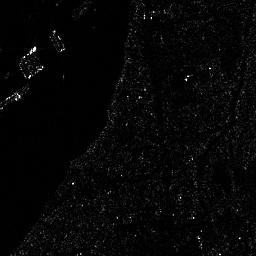ship: (48, 28, 66, 54)
